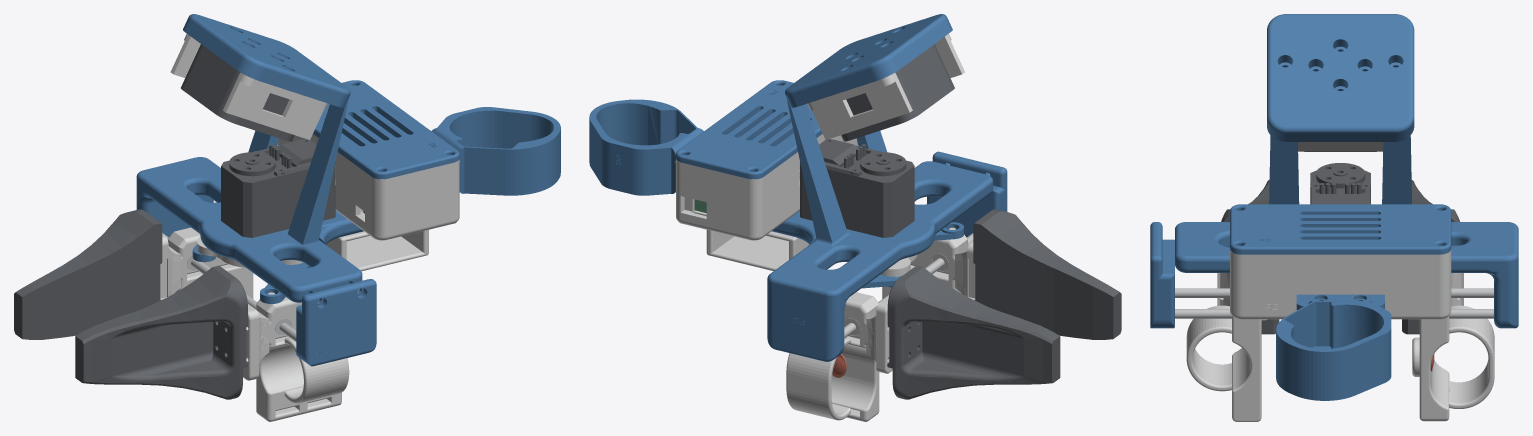
Rendered from umi_right_agilex-piper.glb.
The picture shows the model from 3 angles, left to right: view 1: azimuth 30°, elevation 25°; view 2: azimuth 150°, elevation 25°; view 3: azimuth 270°, elevation 25°; orthographic projection. The views are drawn at different scales.
Visible parts, largest first — view 1: main_support, tip_thumb, tip_index_1, controller_support, electronics_box, thumb_link, servo_sts3215, electronics_lid, main_support_cover_plate, camera_hood, d405, hand_support_base (+3 smaller); view 2: main_support, tip_index, tip_thumb_1, controller_support, index_link, electronics_box, servo_sts3215, electronics_lid, camera_hood, d405, hand_support_base, tip_thumb (+3 smaller); view 3: main_support, electronics_box, electronics_lid, controller_support, index_link, thumb_link, main_support_cover_plate, servo_sts3215, rod_-8, rod_-28, camera_hood, tip_index (+1 smaller).
Part boxes in pixels (bbox=[...]): main_support: bbox=[136, 14, 363, 302]; tip_thumb: bbox=[77, 267, 248, 399]; tip_index_1: bbox=[20, 221, 162, 339]; controller_support: bbox=[431, 107, 560, 195]; electronics_box: bbox=[277, 134, 459, 240]; thumb_link: bbox=[243, 292, 349, 421]; servo_sts3215: bbox=[221, 139, 335, 237]; electronics_lid: bbox=[313, 80, 459, 179]; main_support_cover_plate: bbox=[296, 279, 376, 366]; camera_hood: bbox=[170, 34, 327, 139]; d405: bbox=[181, 44, 294, 141]; hand_support_base: bbox=[326, 222, 456, 271]; main_support: bbox=[767, 14, 993, 361]; tip_index: bbox=[887, 267, 1057, 399]; tip_thumb_1: bbox=[973, 221, 1115, 339]; controller_support: bbox=[589, 99, 703, 195]; index_link: bbox=[786, 292, 892, 421]; electronics_box: bbox=[676, 134, 857, 240]; servo_sts3215: bbox=[800, 139, 914, 237]; electronics_lid: bbox=[676, 80, 822, 179]; camera_hood: bbox=[807, 33, 964, 139]; d405: bbox=[841, 44, 954, 141]; hand_support_base: bbox=[679, 222, 809, 271]; tip_thumb: bbox=[977, 209, 1121, 336]; main_support: bbox=[1175, 14, 1518, 328]; electronics_box: bbox=[1230, 250, 1451, 319]; electronics_lid: bbox=[1230, 204, 1451, 254]; controller_support: bbox=[1276, 294, 1391, 400]; index_link: bbox=[1412, 273, 1494, 421]; thumb_link: bbox=[1186, 273, 1267, 421]; main_support_cover_plate: bbox=[1150, 222, 1174, 328]; servo_sts3215: bbox=[1310, 163, 1370, 204]; rod_-8: bbox=[1175, 309, 1493, 318]; rod_-28: bbox=[1175, 288, 1493, 297]; camera_hood: bbox=[1298, 142, 1383, 151]; tip_index: bbox=[1406, 180, 1459, 334].
Size of the model in its own units: 0.249 by 0.1669 by 0.15.
